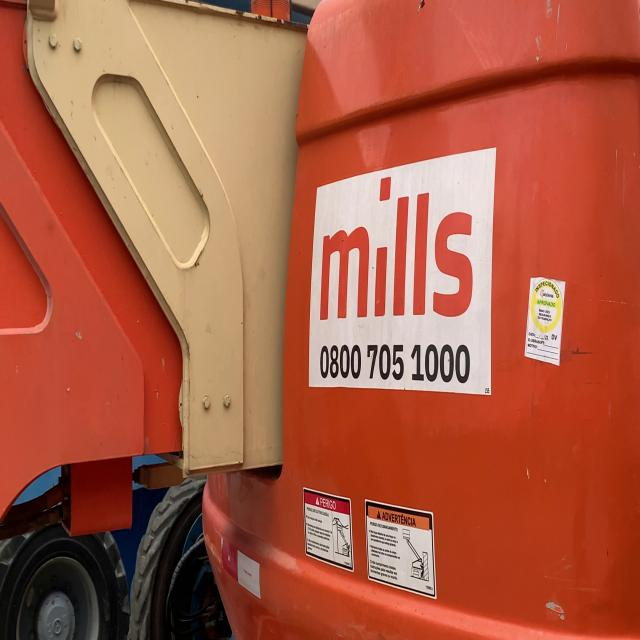Adesivos: (304, 139, 501, 401)
